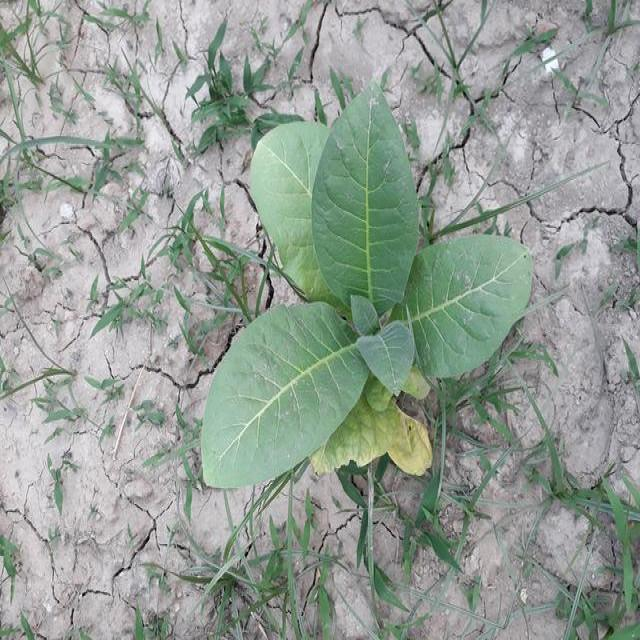crop: (212, 114, 532, 496)
